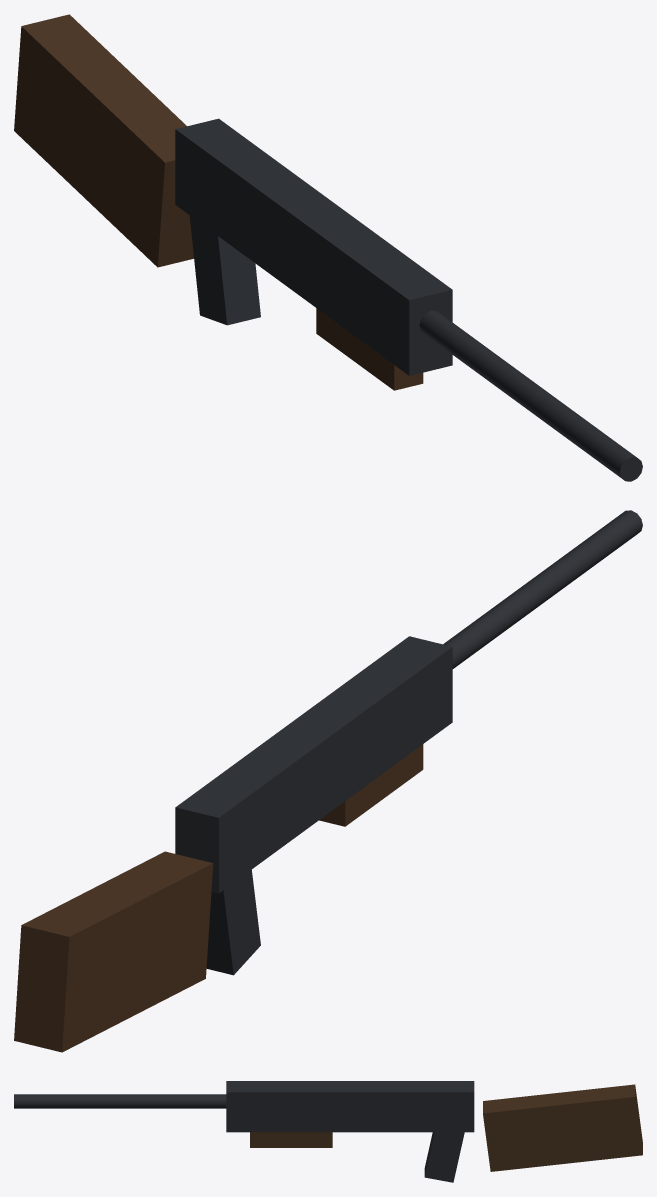
Rendered from rifle.glb.
3 views of the same model, one above another, from view 1: azimuth 30°, elevation 25°; view 2: azimuth 150°, elevation 25°; view 3: azimuth 270°, elevation 25° (orthographic). The views are drawn at different scales.
Visible parts, largest first — view 1: receiver, stock, barrel, grip, foregrip; view 2: receiver, stock, barrel, grip, foregrip; view 3: receiver, stock, barrel, grip, foregrip.
Boxes of the visible parts, x1,y1,x2,y2 form: receiver: (175,118,452,375); stock: (14,14,193,267); barrel: (419,310,642,481); grip: (189,215,260,325); foregrip: (316,308,423,390); receiver: (175,636,452,893); stock: (14,851,213,1052); barrel: (443,510,642,668); grip: (206,870,260,975); foregrip: (319,744,423,826); receiver: (226,1081,474,1132); stock: (483,1084,642,1171); barrel: (14,1094,226,1108); grip: (424,1132,464,1182); foregrip: (250,1132,332,1147).
Bounding box in the file's own units: 0.05 × 0.1715 × 1.07.
